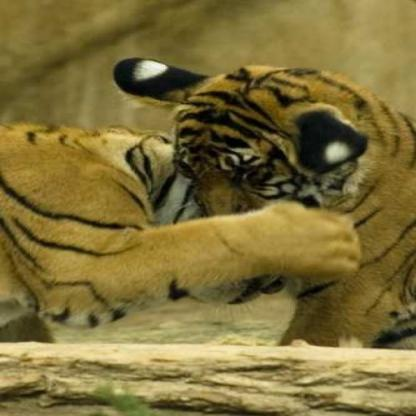Tiger: (132, 37, 415, 357), (0, 84, 213, 355)
